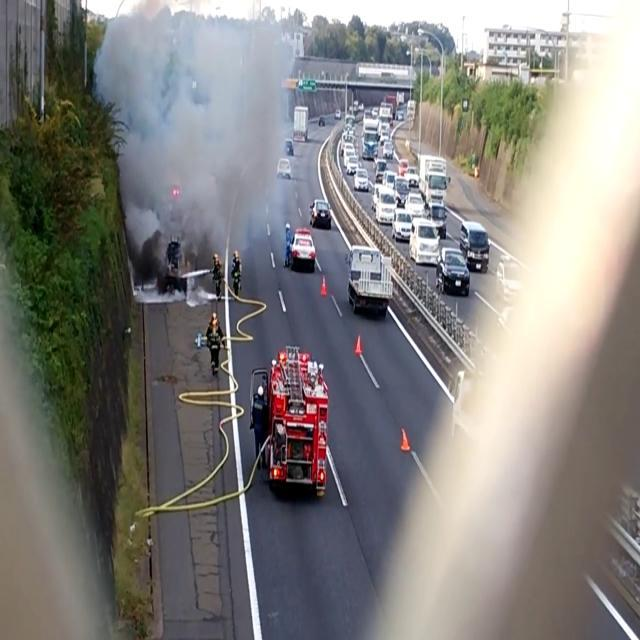Smoke: (94, 0, 302, 248)
